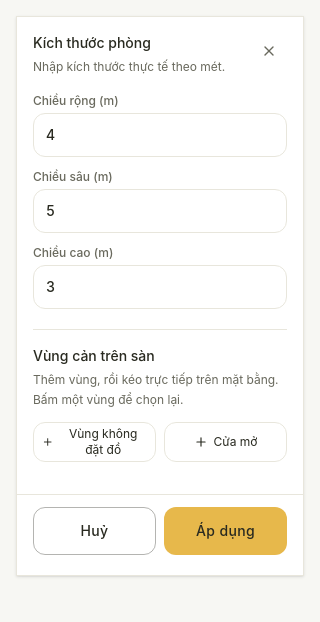
Scenario: RoomEditPanel › chặn kích thước ngoài giới hạn
Replace the text in the number field labelled "Chiều cao (m)" with "9" at {"x": 160, "y": 287}, box [33,265,287,309]
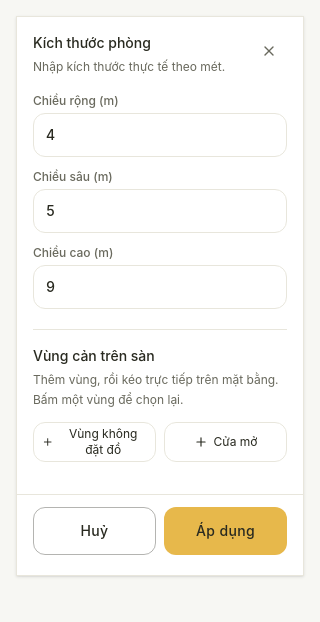
Submit the form named "Chỉnh kích thước phòng"
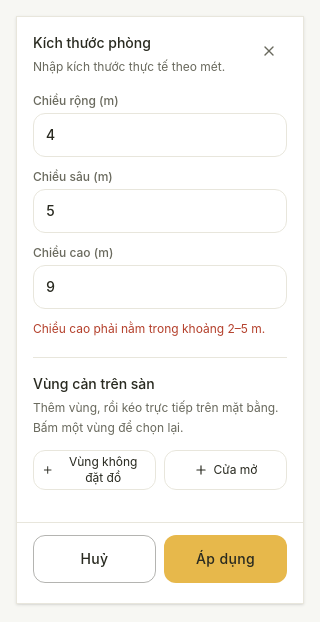
expect the message reads "Chiều cao phải nằm trong khoảng 2–5 m.": met, box [33,321,265,336]
